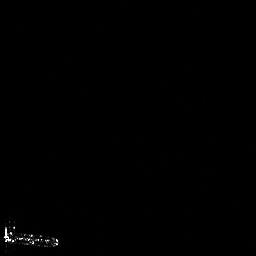ship: (3, 224, 59, 246)
